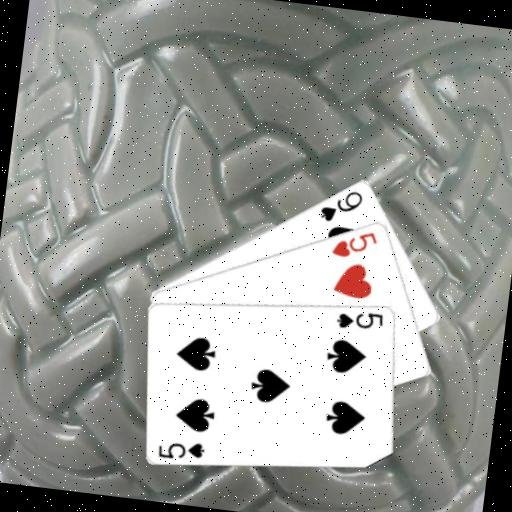5H: (329, 224, 381, 262)
5S: (155, 435, 208, 465), (333, 305, 386, 334)
9S: (317, 183, 366, 227)
